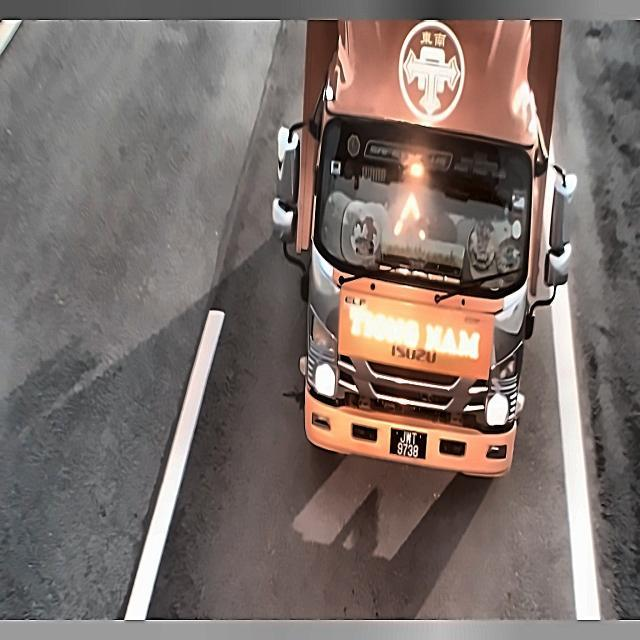car: (390, 426, 429, 466)
